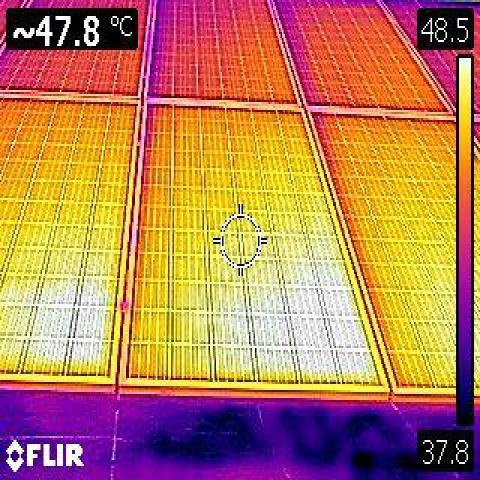fault: (0, 258, 115, 379), (273, 241, 343, 383)
